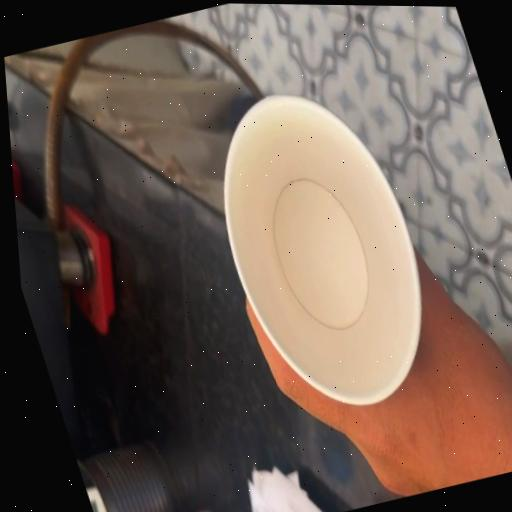Ly_giay: (224, 95, 421, 404)
